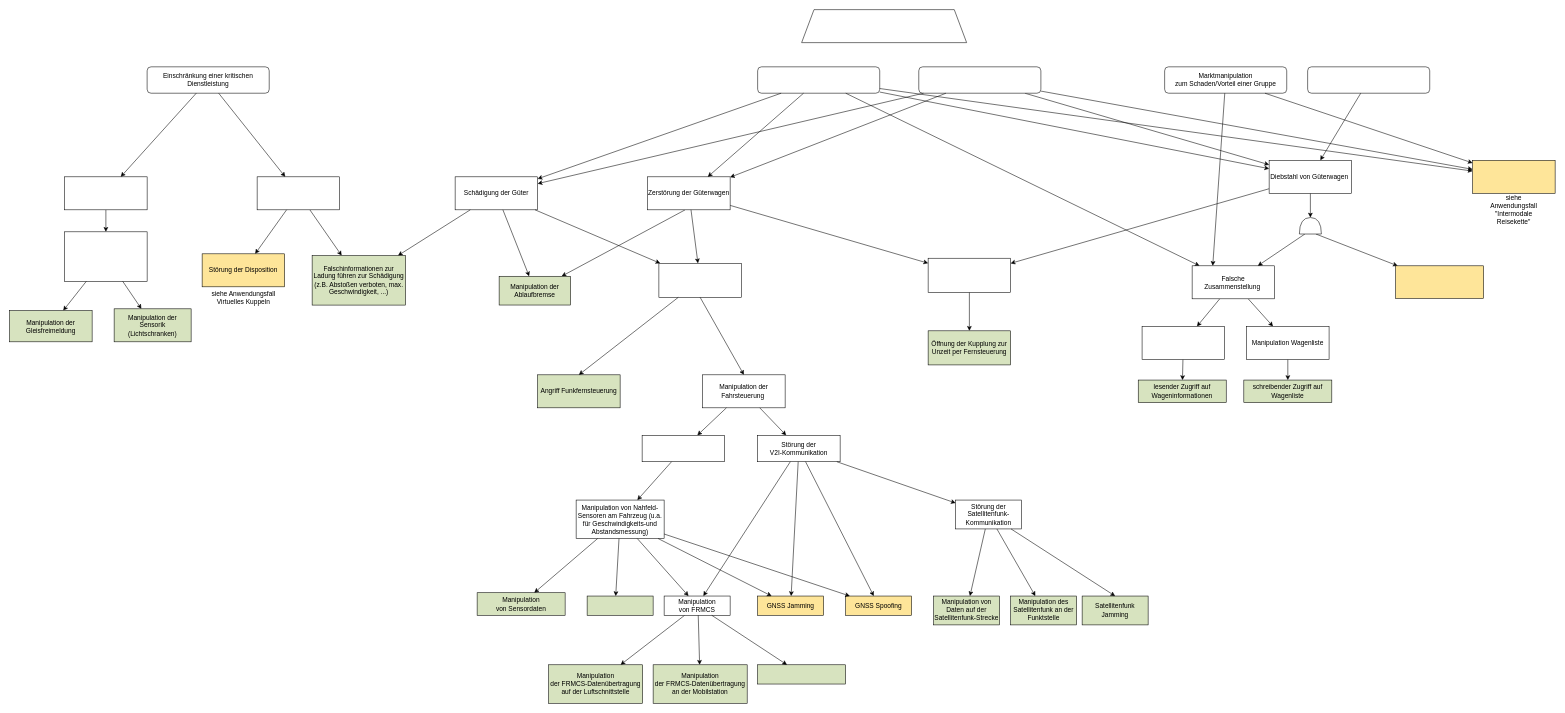
Image size: 1565x713. Some labels were removed from this diagram. The shapes that lost their labels are listed below. From the top down, each one's box as (x1, y1, x2, y2) in pixels, then its label:
(801, 9, 967, 43): Angriffsziel Automatisierte Ablaufsteuerung
(757, 66, 880, 93): Reputationsschaden Betreiber
(918, 66, 1041, 93): Finanzieller Schaden Betreiber
(1307, 66, 1430, 93): Verletzung von Eigentum
(64, 176, 147, 210): Zerstörung der Infrastruktur
(257, 176, 340, 210): Blockade der Güterabfertigung (Ausfahrt)
(1472, 160, 1555, 193): Störung der Übergänge zwischen Verkehrsträgern
(64, 231, 147, 281): Manipulation der Informationen zur Gleisbelegung
(928, 258, 1011, 292): Manipulation der DAK
(658, 263, 741, 297): Manipulation der automatisierten Abdrücklock
(1395, 265, 1484, 298): Manipulation Ortungs-/ Registrierungsinformationen
(1142, 326, 1225, 359): Manipulation Ablaufstellwerk (Weichenstellung)
(642, 435, 725, 462): Störung der V2V-Kommunikation
(587, 595, 653, 615): Blockade der Sensoren
(757, 664, 846, 684): FRMCS Jamming
